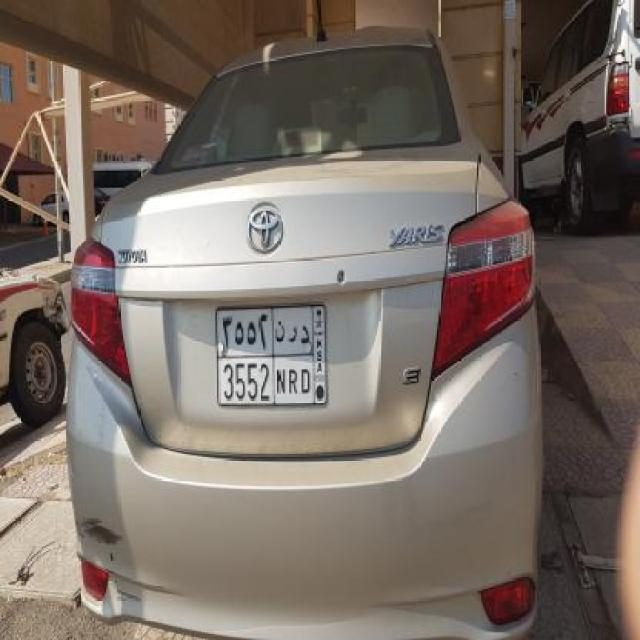license_plate: (214, 300, 328, 409)
